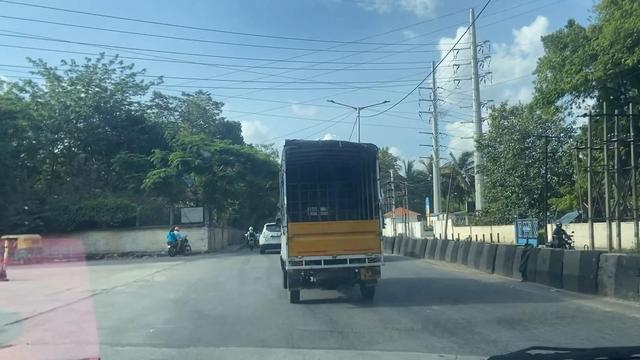HMV: (281, 141, 382, 310)
RoadDamages: (6, 260, 182, 325), (45, 337, 480, 360)
